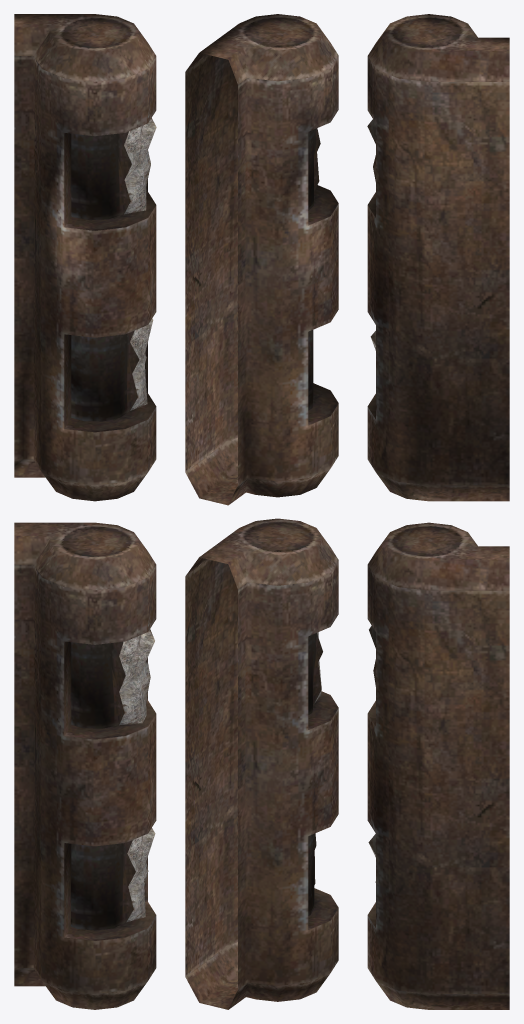
File: swingdoor_flush_control_hinge_broken.dae
The picture shows the model from 3 angles, left to right: view 1: azimuth 90°, elevation 25°; view 2: azimuth 150°, elevation 25°; view 3: azimuth 270°, elevation 25°; orthographic projection.
Visible parts, largest first — view 1: polySurface175; view 2: polySurface175; view 3: polySurface175.
Part boxes in pixels (x1,y1,x2,y2): polySurface175: (14, 14, 156, 1009); polySurface175: (185, 14, 338, 1009); polySurface175: (367, 14, 509, 1009).
Size of the model in its own units: 0.2757 by 2.37 by 0.3198.
